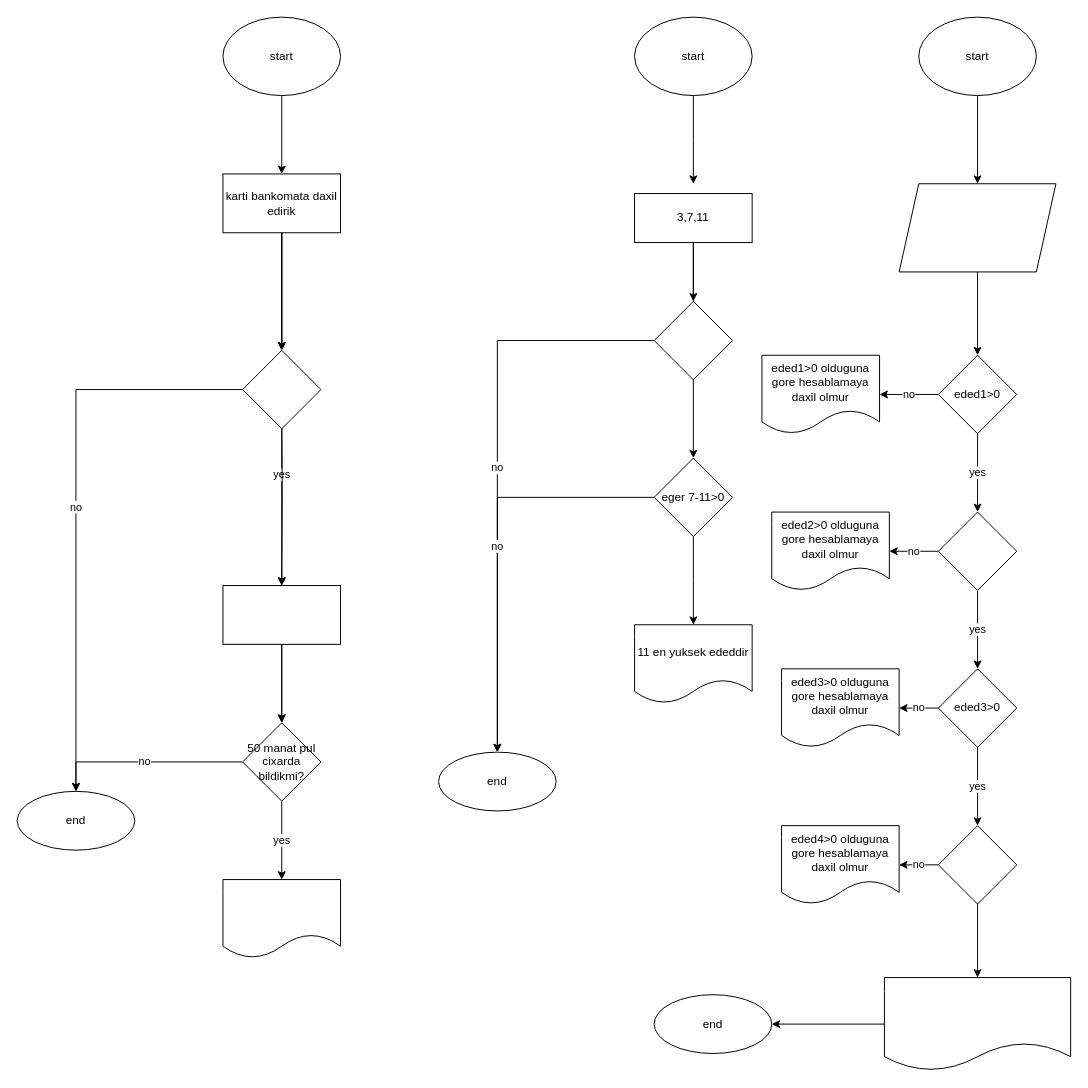
This 1088x1088 diagram has some shape labels left out. Here are the shapes that lost their labels. From the top down, the centre of each, then its label:
At (977,227): "eded1,eded2,eded3,eded4".
At (693,340): "eger 3-7>0".
At (281,389): "sifreni duzgun daxil ede bildikmi?".
At (977,550): "eded2>0".
At (281,614): "balansa daxil oluruq".
At (977,864): "eded4>0".
At (281,918): "pulu gotur".
At (977,1024): "eded1,eded2,eded3,eded4 toplanilir".
